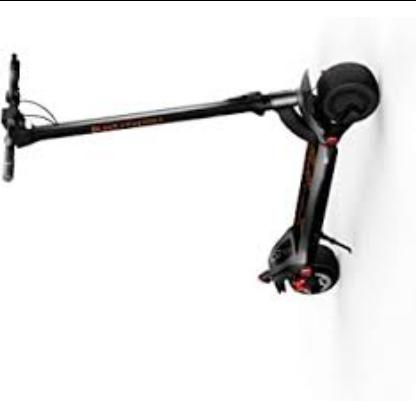bike: (1, 59, 383, 298)
